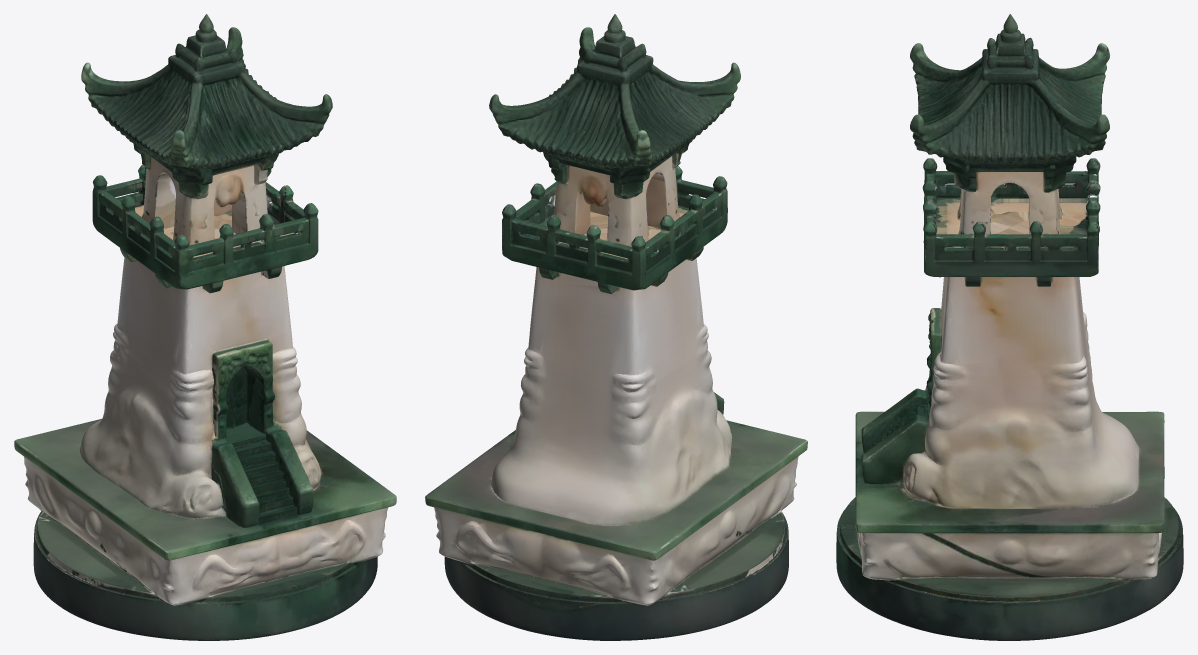
The model's file is rook_white.glb.
3 renders of one model, left to right at view 1: azimuth 30°, elevation 25°; view 2: azimuth 150°, elevation 25°; view 3: azimuth 270°, elevation 25°, orthographic.
Visible parts, largest first — view 1: model; view 2: model; view 3: model.
Boxes of the visible parts, x1,y1,x2,y2 form: model: (14, 14, 396, 640); model: (425, 14, 807, 640); model: (836, 14, 1183, 640).
Size of the model in its own units: 1.07 by 1.9 by 1.08.
1 material, 1 textured.
